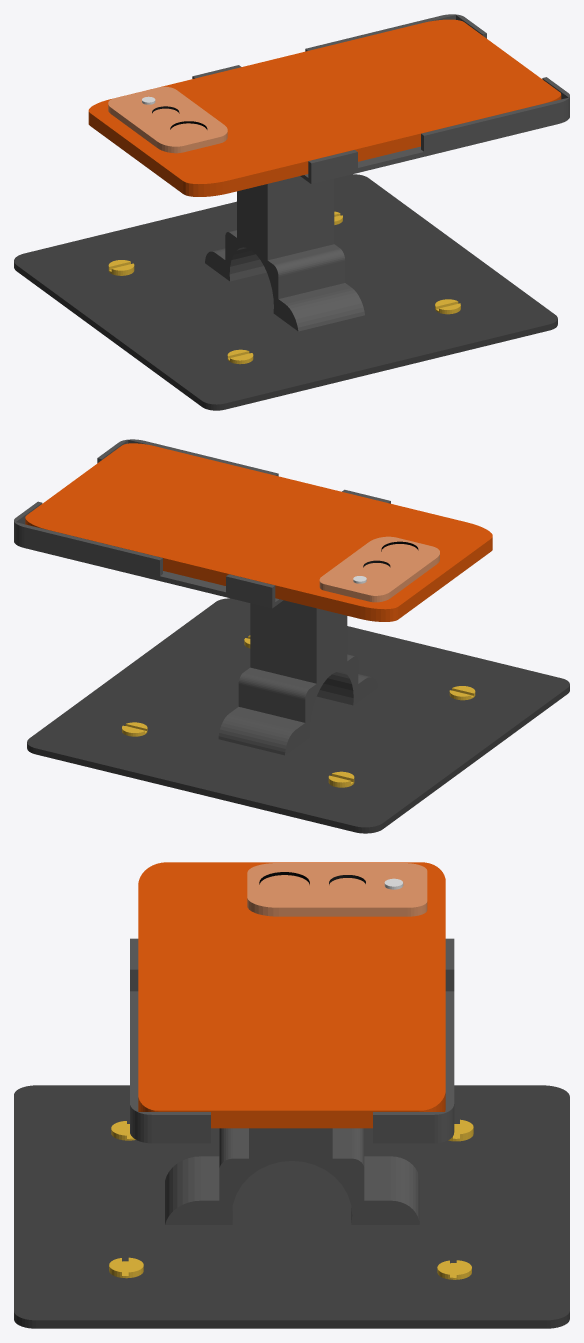
The model's file is end.dae.
3 renders of one model, top to bottom at view 1: azimuth 30°, elevation 25°; view 2: azimuth 150°, elevation 25°; view 3: azimuth 270°, elevation 25°, orthographic. The views are drawn at different scales.
Visible parts, largest first — view 1: Cylinder.003; view 2: Cylinder.003; view 3: Cylinder.003.
Part boxes in pixels (x1=…): Cylinder.003: x1=14, y1=14, x2=569, y2=410; Cylinder.003: x1=14, y1=439, x2=569, y2=833; Cylinder.003: x1=14, y1=862, x2=569, y2=1328.
Size of the model in its own units: 69.35 by 60 by 35.31.
